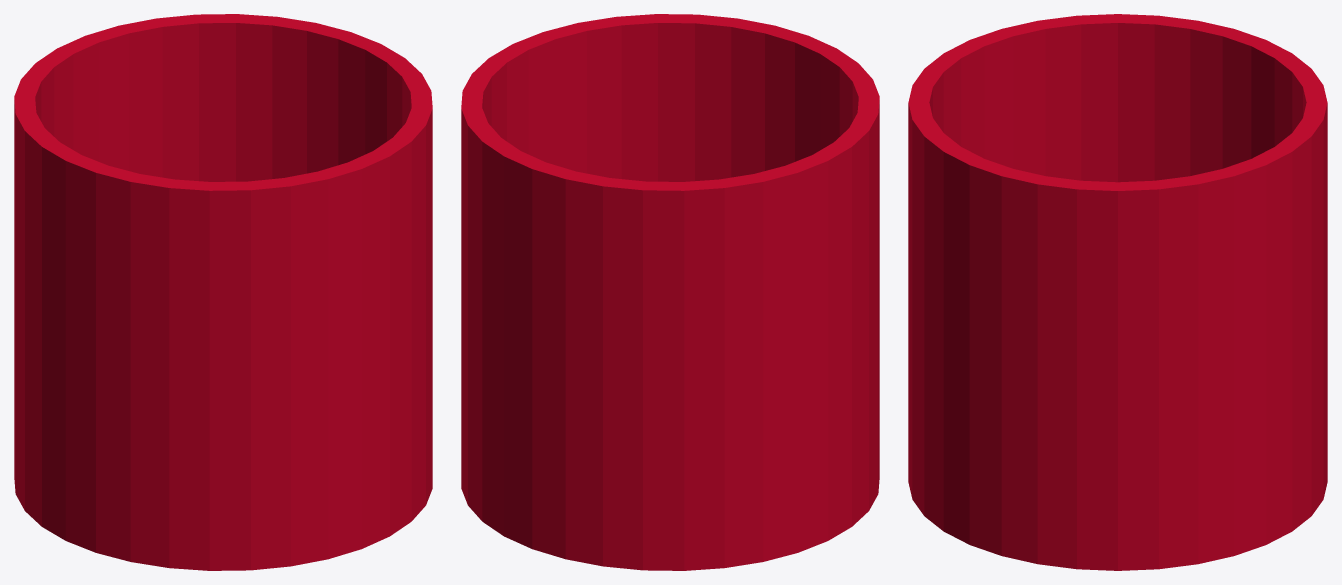
The model's file is CylinderInside.fbx.
The picture shows the model from 3 angles, left to right: view 1: azimuth 30°, elevation 25°; view 2: azimuth 150°, elevation 25°; view 3: azimuth 270°, elevation 25°; orthographic projection.
Parts seen in each view (by area): view 1: Cylinder; view 2: Cylinder; view 3: Cylinder.
Part boxes in pixels (box(x1,y1,x2,y2)): Cylinder: box(14, 14, 432, 570); Cylinder: box(461, 14, 879, 570); Cylinder: box(908, 14, 1327, 570).
Size of the model in its own units: 200 by 200 by 200.
